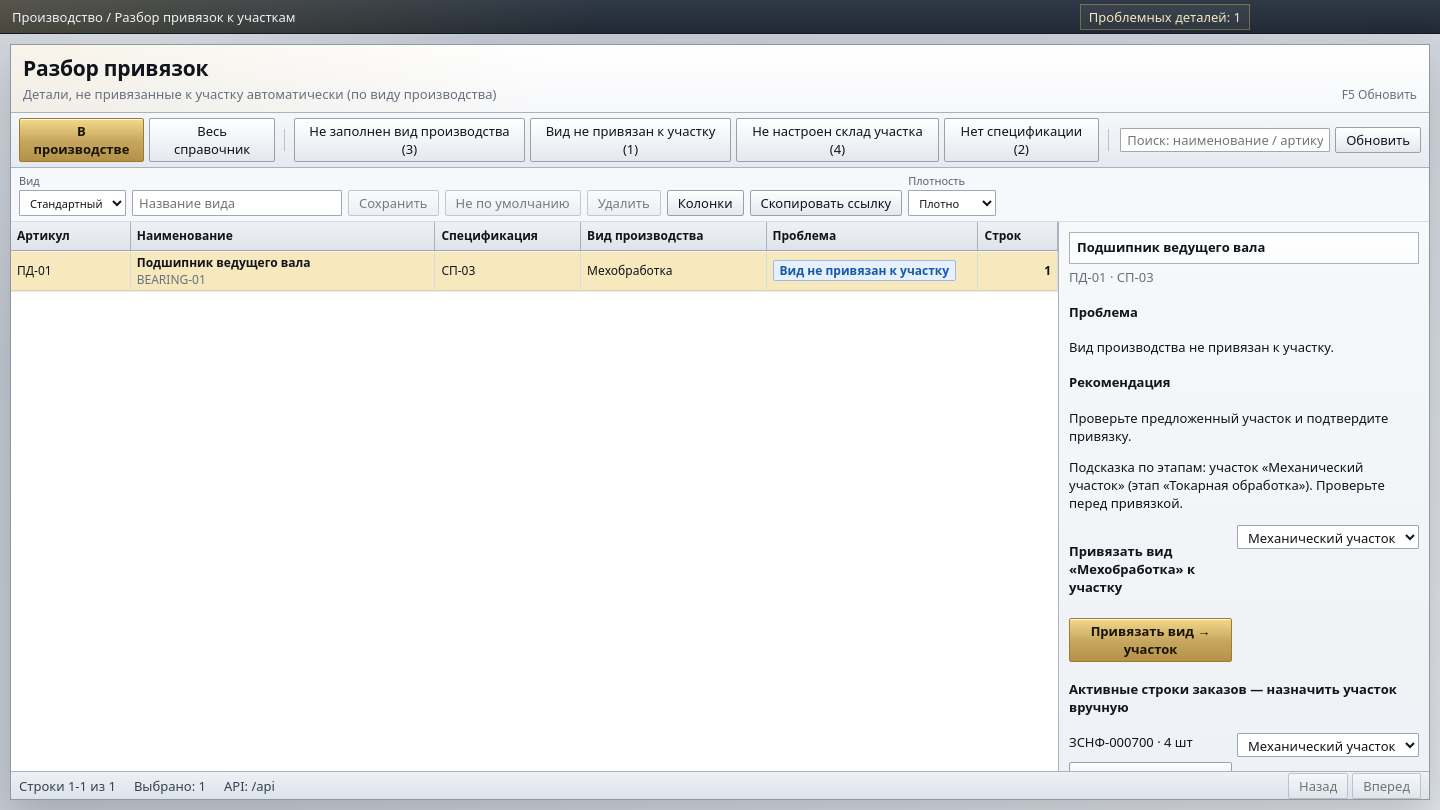
Test: WorkshopBindingReviewPage characterization › submits search explicitly and applies reason and scope controls
The image size is (1440, 810).
Type "подшипник" into the field with placeholder "Поиск: наименование / артикул" at (1225, 140), box [1120, 128, 1330, 152]
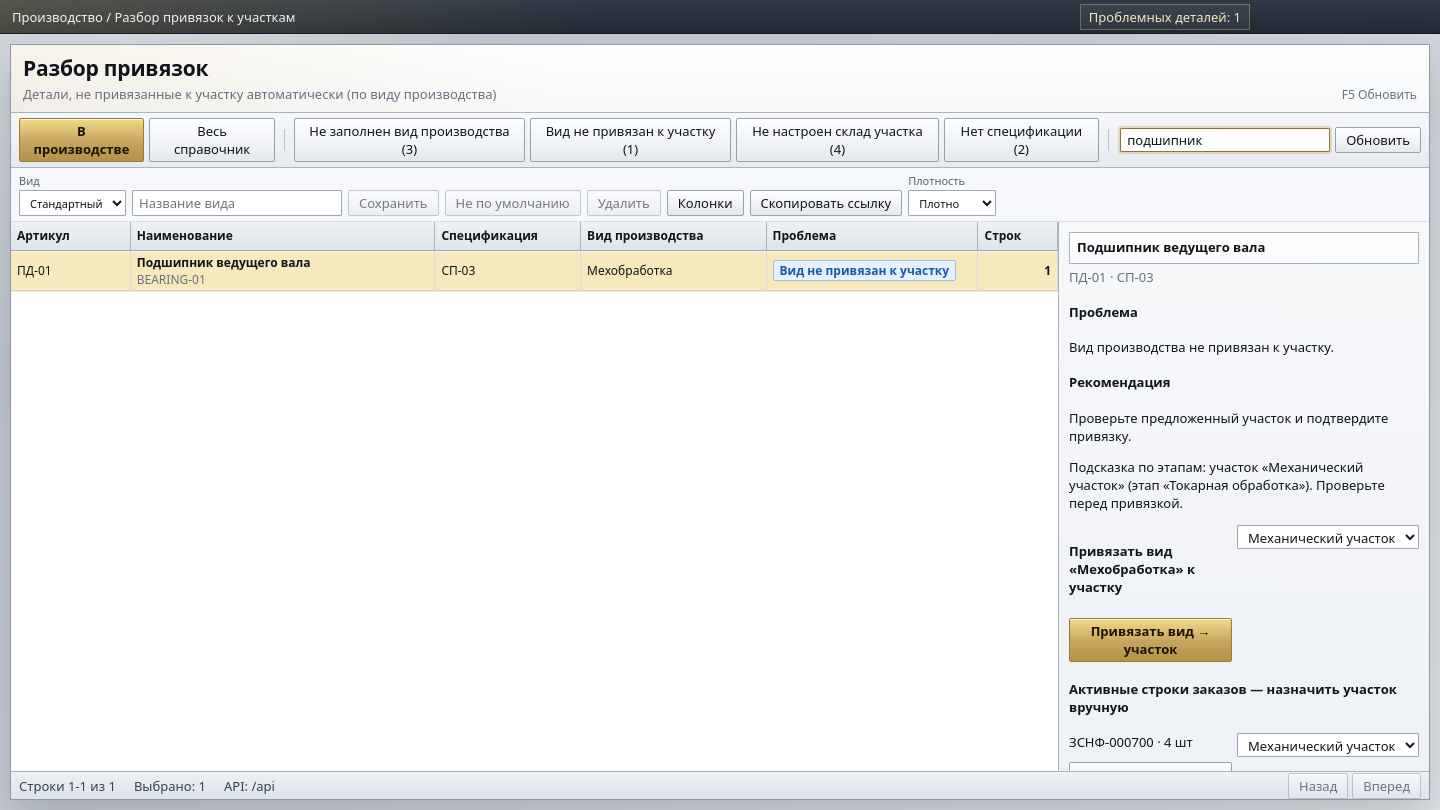
Press Enter
Click the button "Нет спецификации (2)" at (1021, 140), box [944, 118, 1099, 162]
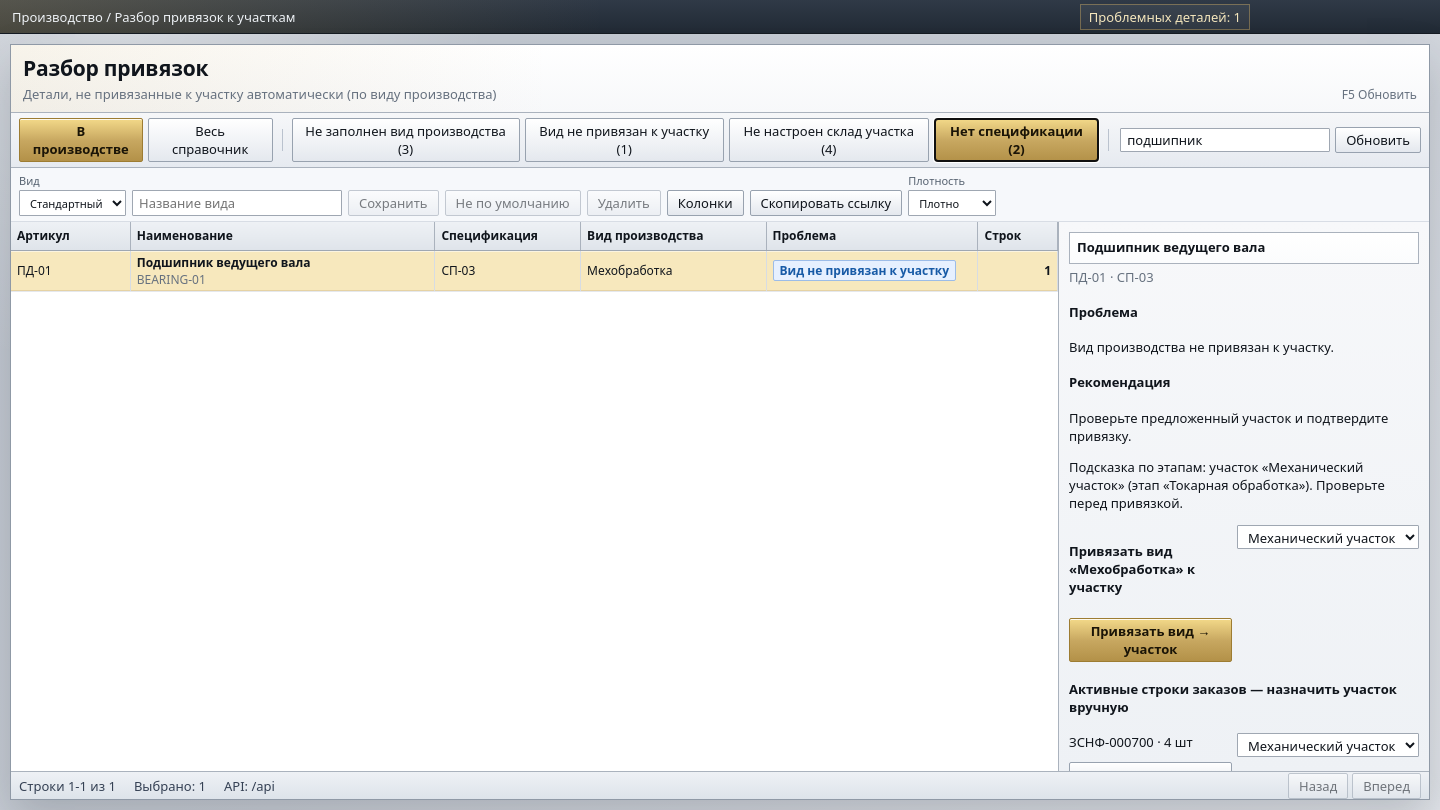
Click the button "Весь справочник" at (210, 140), box [148, 118, 273, 162]
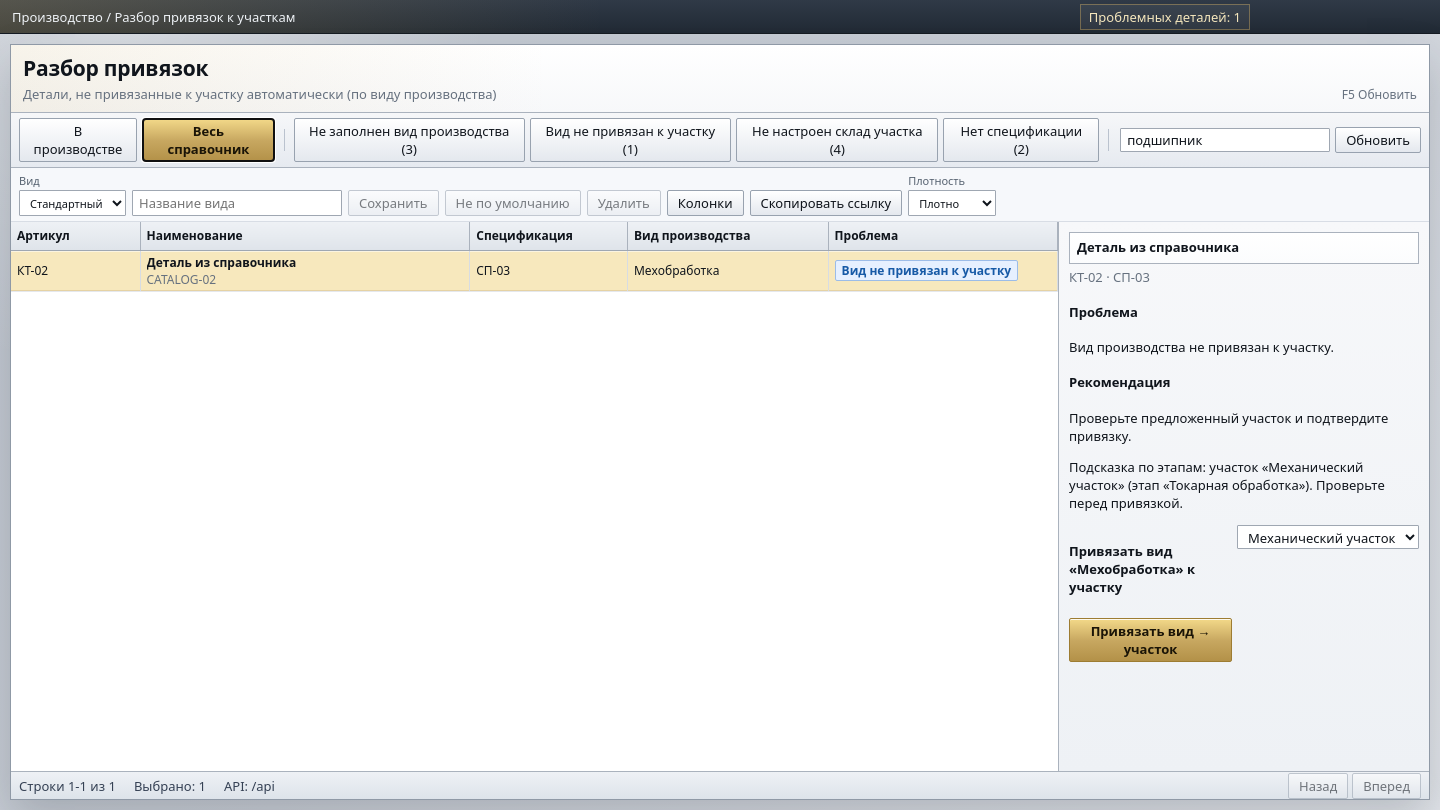
Check: the text "Деталь из справочника" below "Артикул" is shown, box [146, 254, 296, 270]
